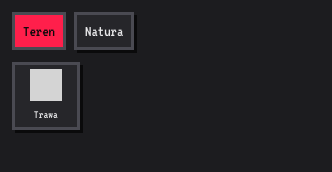
AssetPalette › shows the assets of the first category and picks one for the brush on click
# Przy zaznaczaniu kliknięcie kafelka od razu włącza pędzel. Samo kliknięcie niczego nie dodaje.
Step 1. Click the button "Trawa" → [46, 96], box [12,62,80,130]
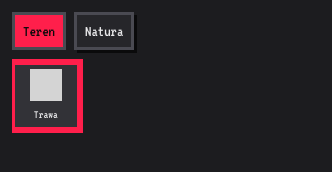
Check: the button "Trawa" is pressed, box [12,62,80,130]
